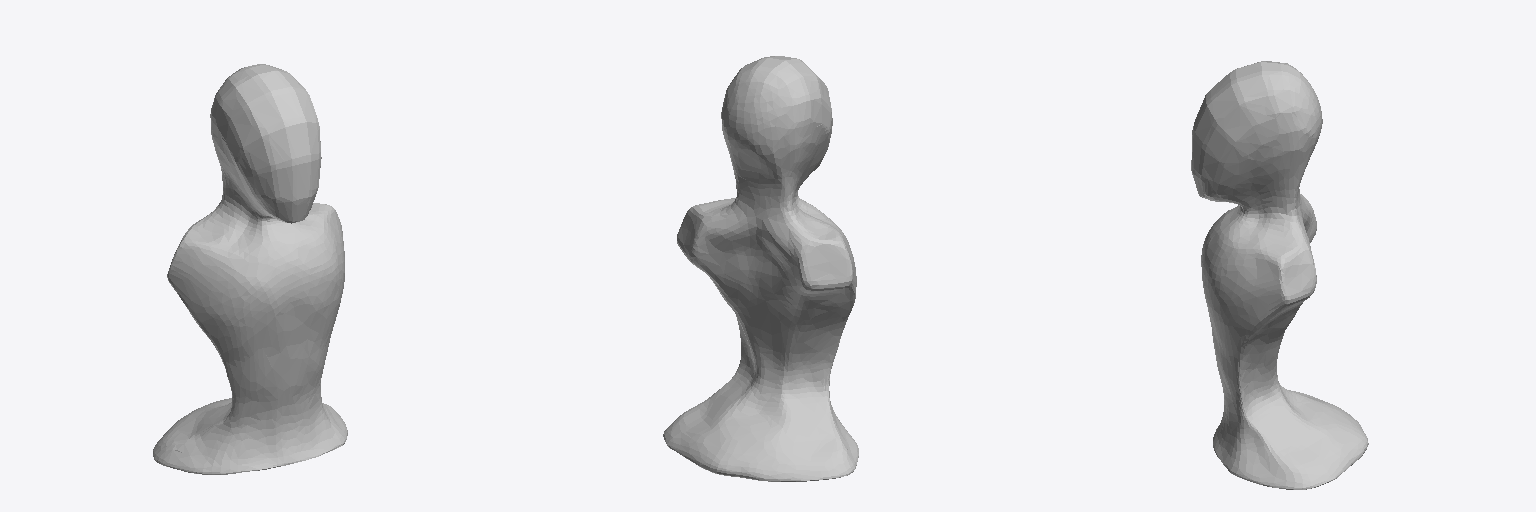
Rendered from statue4_5k.obj.
3 views of the same model, side by side, from view 1: azimuth 30°, elevation 25°; view 2: azimuth 150°, elevation 25°; view 3: azimuth 270°, elevation 25° (orthographic).
Parts seen in each view (by area): view 1: Group1; view 2: Group1; view 3: Group1.
Part boxes in pixels (left/top/right/bottom): Group1: left=153, top=64, right=347, bottom=474; Group1: left=663, top=56, right=858, bottom=481; Group1: left=1191, top=61, right=1368, bottom=489.
Size of the model in its own units: 1.67 by 3.33 by 1.41.